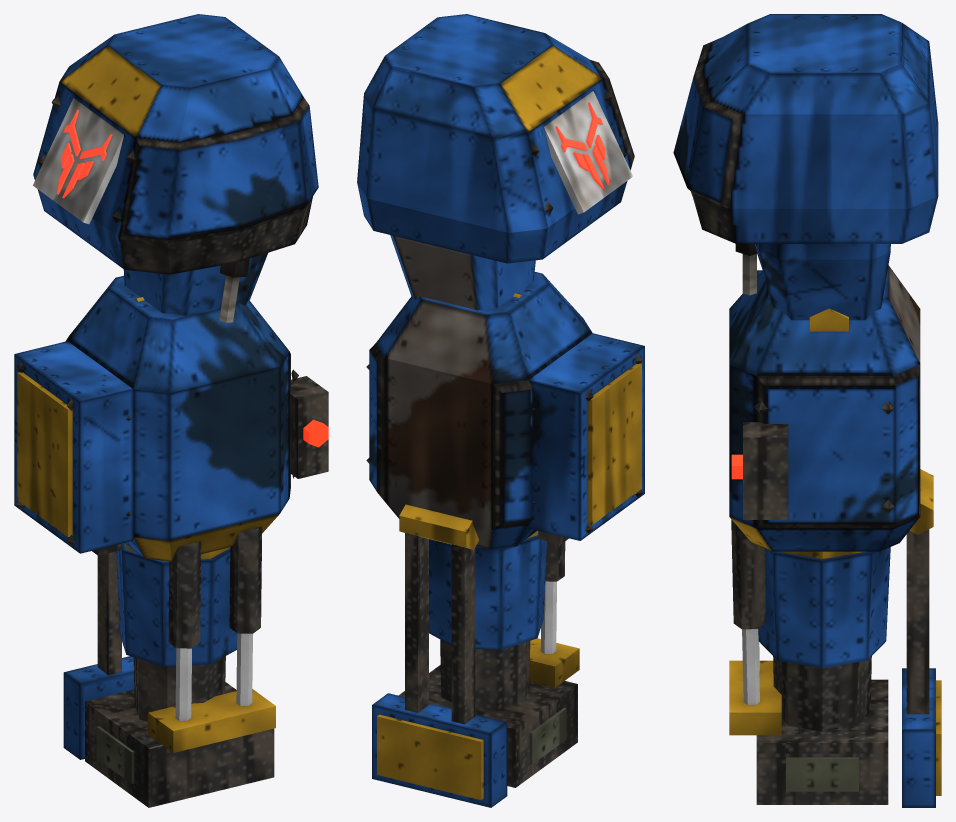
File: LeftCarpetBombArmY.glb
3 renders of one model, left to right at view 1: azimuth 30°, elevation 25°; view 2: azimuth 150°, elevation 25°; view 3: azimuth 270°, elevation 25°, orthographic. The views are drawn at different scales.
Visible parts, largest first — view 1: LeftCarpetBombArmY_Fore, LeftCarpetBombArmY_Upper; view 2: LeftCarpetBombArmY_Fore, LeftCarpetBombArmY_Upper; view 3: LeftCarpetBombArmY_Fore, LeftCarpetBombArmY_Upper.
Boxes of the visible parts, bbox=[...] form: LeftCarpetBombArmY_Fore: bbox=[14, 275, 328, 807]; LeftCarpetBombArmY_Upper: bbox=[33, 14, 318, 322]; LeftCarpetBombArmY_Fore: bbox=[366, 272, 644, 807]; LeftCarpetBombArmY_Upper: bbox=[357, 14, 634, 310]; LeftCarpetBombArmY_Fore: bbox=[729, 265, 941, 807]; LeftCarpetBombArmY_Upper: bbox=[673, 14, 938, 320].
Size of the model in its own units: 6.5 by 18 by 5.9.
Materials: 12 (9 with a texture image).
